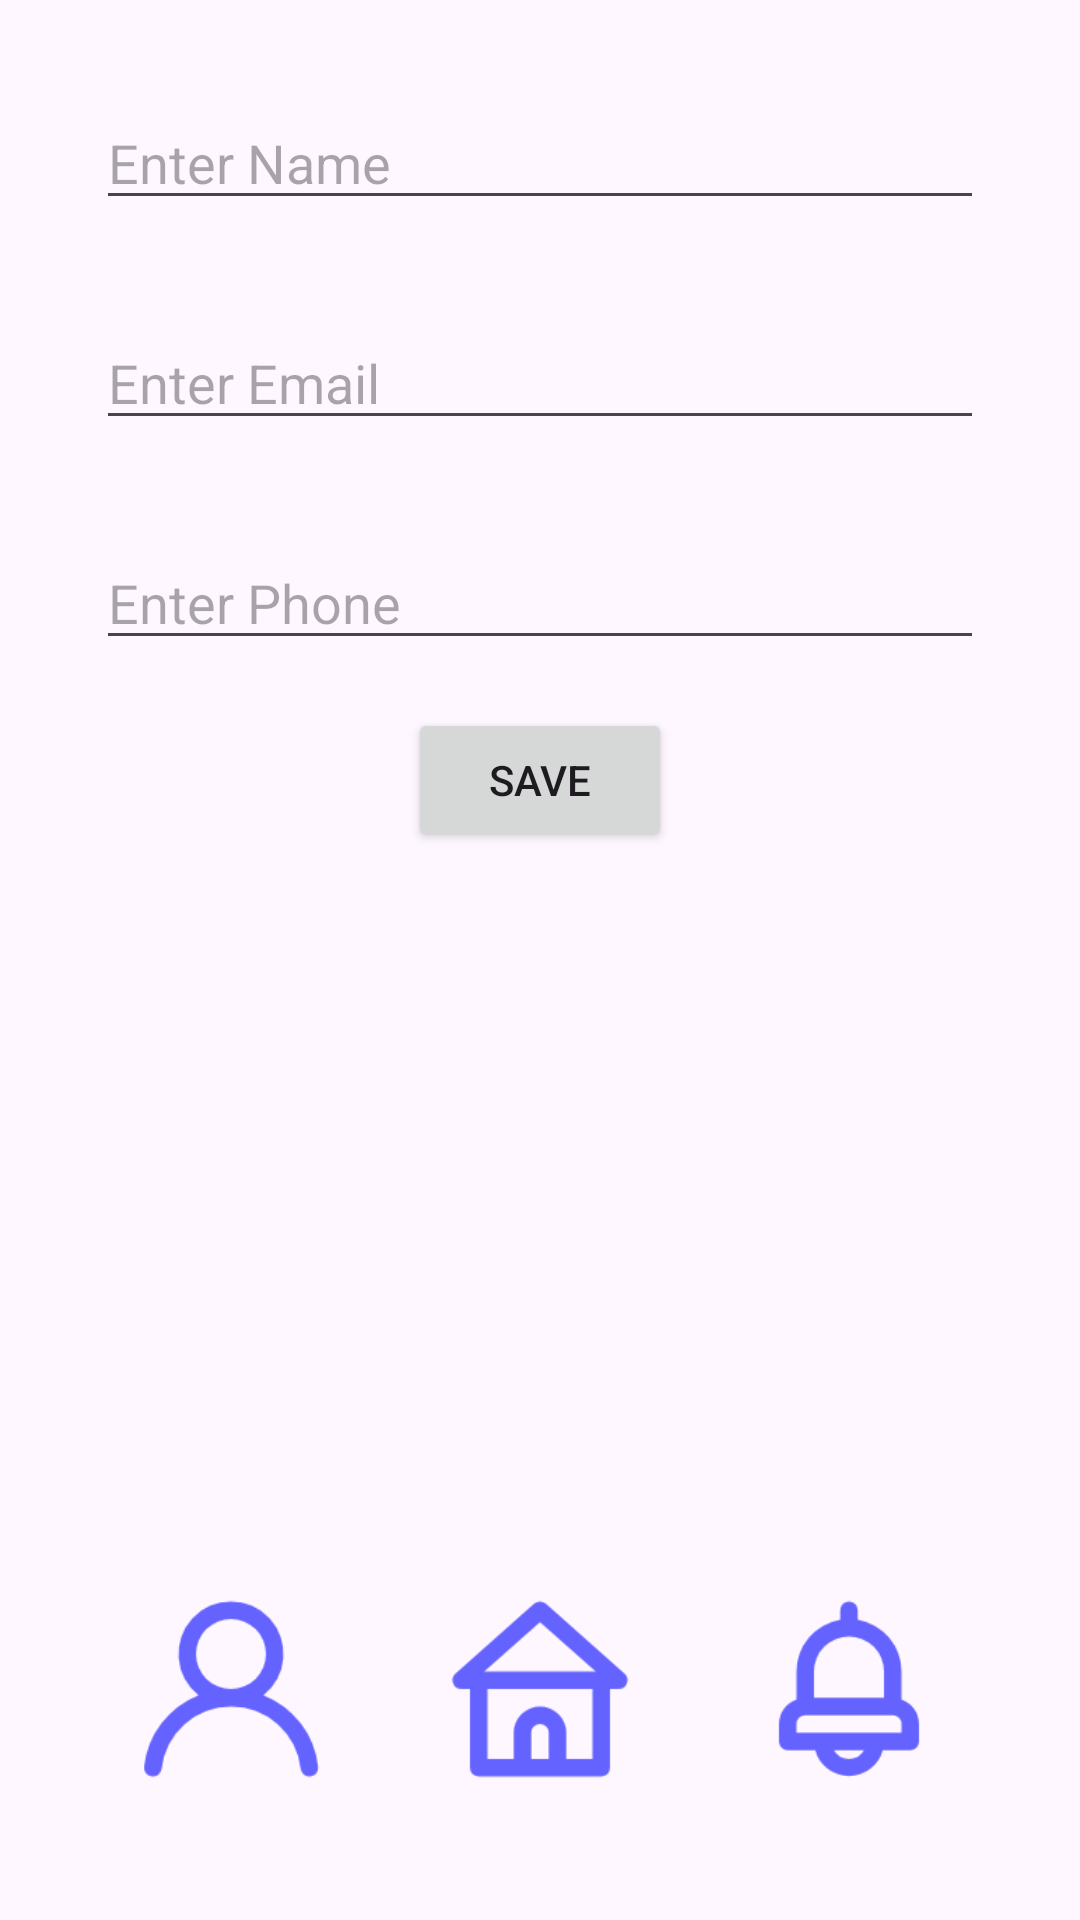

Point at icon controls on the screen. Image size 1080px×1920px, points as point (x, y).
Bell: point (849, 1689)
Home: point (540, 1689)
Profile: point (231, 1689)
